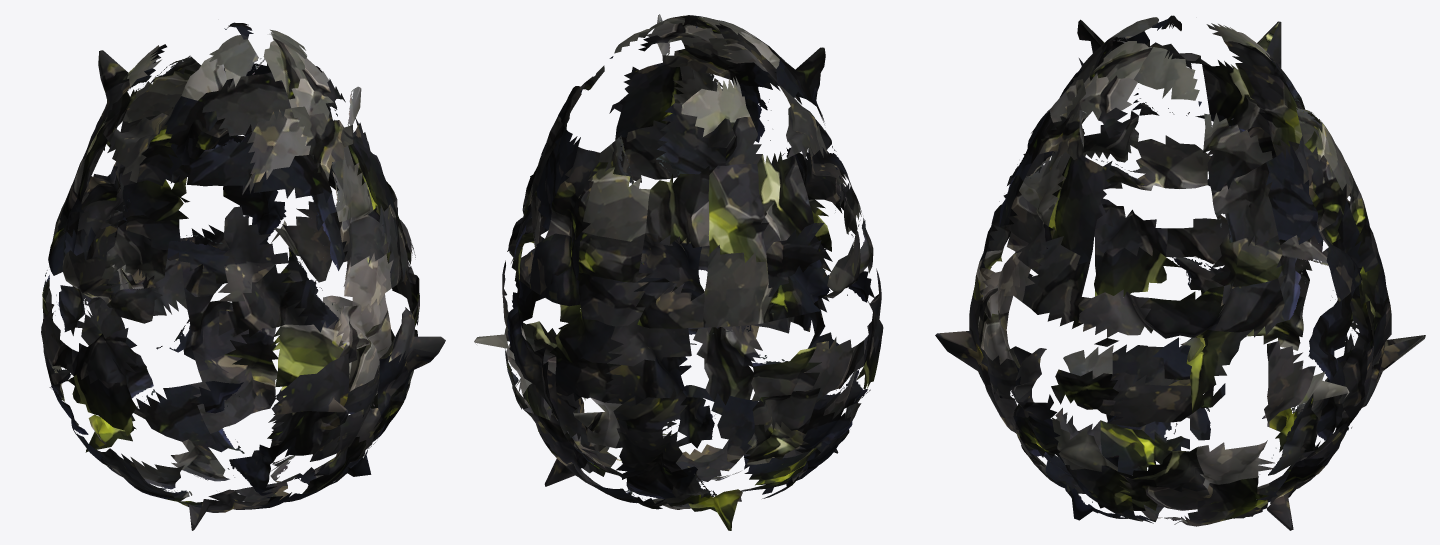
Rendered from ash_egg.obj.
3 views of the same model, side by side, from view 1: azimuth 30°, elevation 25°; view 2: azimuth 150°, elevation 25°; view 3: azimuth 270°, elevation 25° (orthographic). The views are drawn at different scales.
Visible parts, largest first — view 1: ash_egg; view 2: ash_egg; view 3: ash_egg.
Boxes of the visible parts, bbox=[...] form: ash_egg: bbox=[41, 22, 445, 530]; ash_egg: bbox=[474, 14, 883, 530]; ash_egg: bbox=[935, 15, 1425, 530].
Size of the model in its own units: 1.56 by 1.91 by 1.74.
